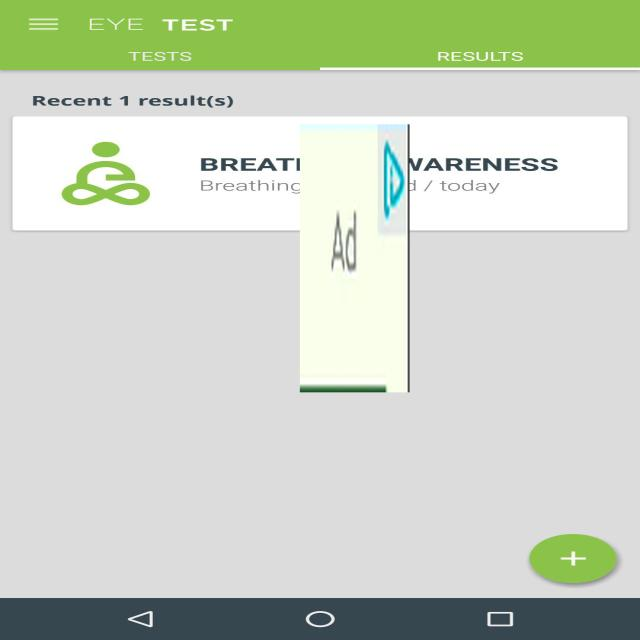sneaking: (300, 125, 409, 392)
